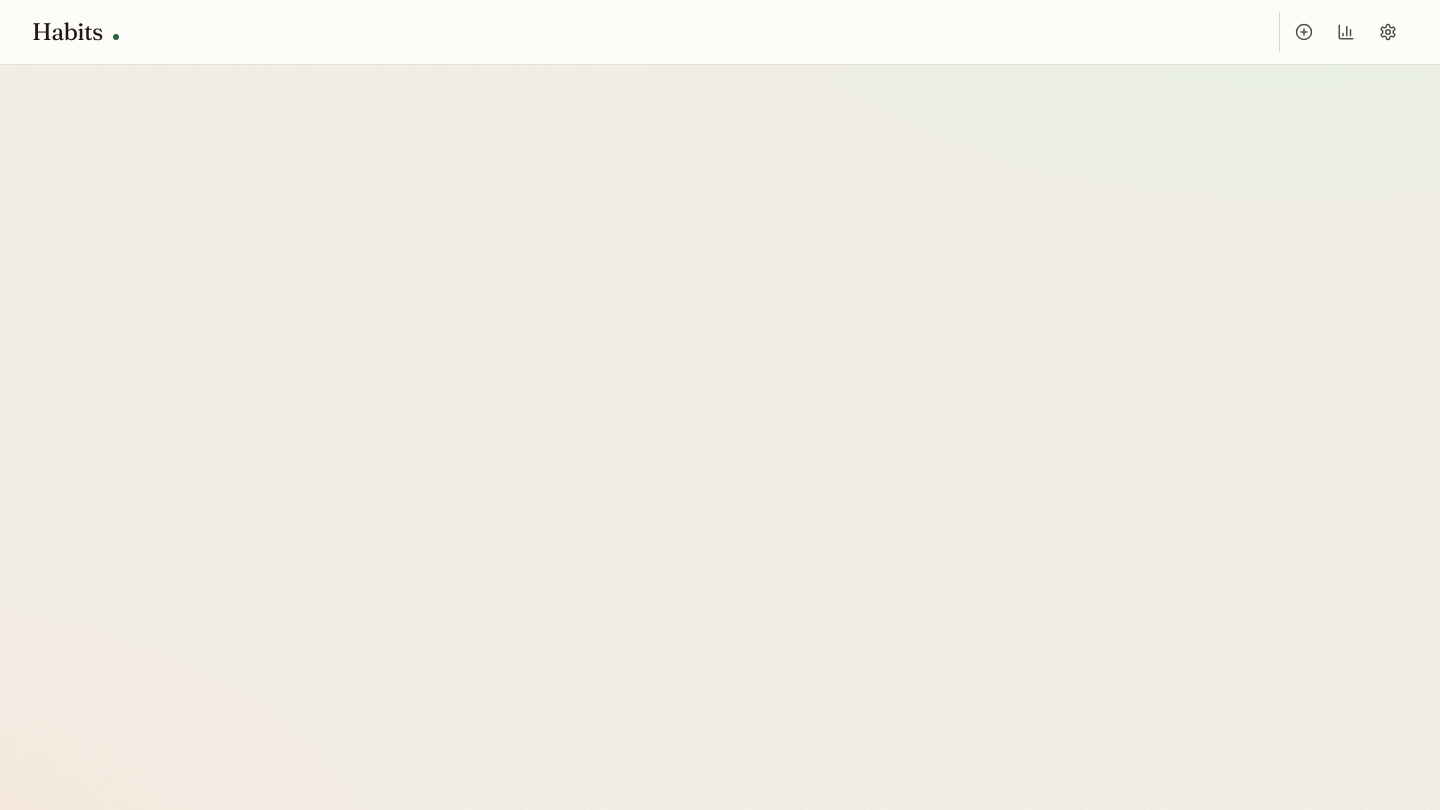
it: Header › opens the log dialog when the icon is clicked
This screenshot has width=1440, height=810.
Click the button named "Log entry" at (1304, 32), box [1284, 12, 1324, 52]
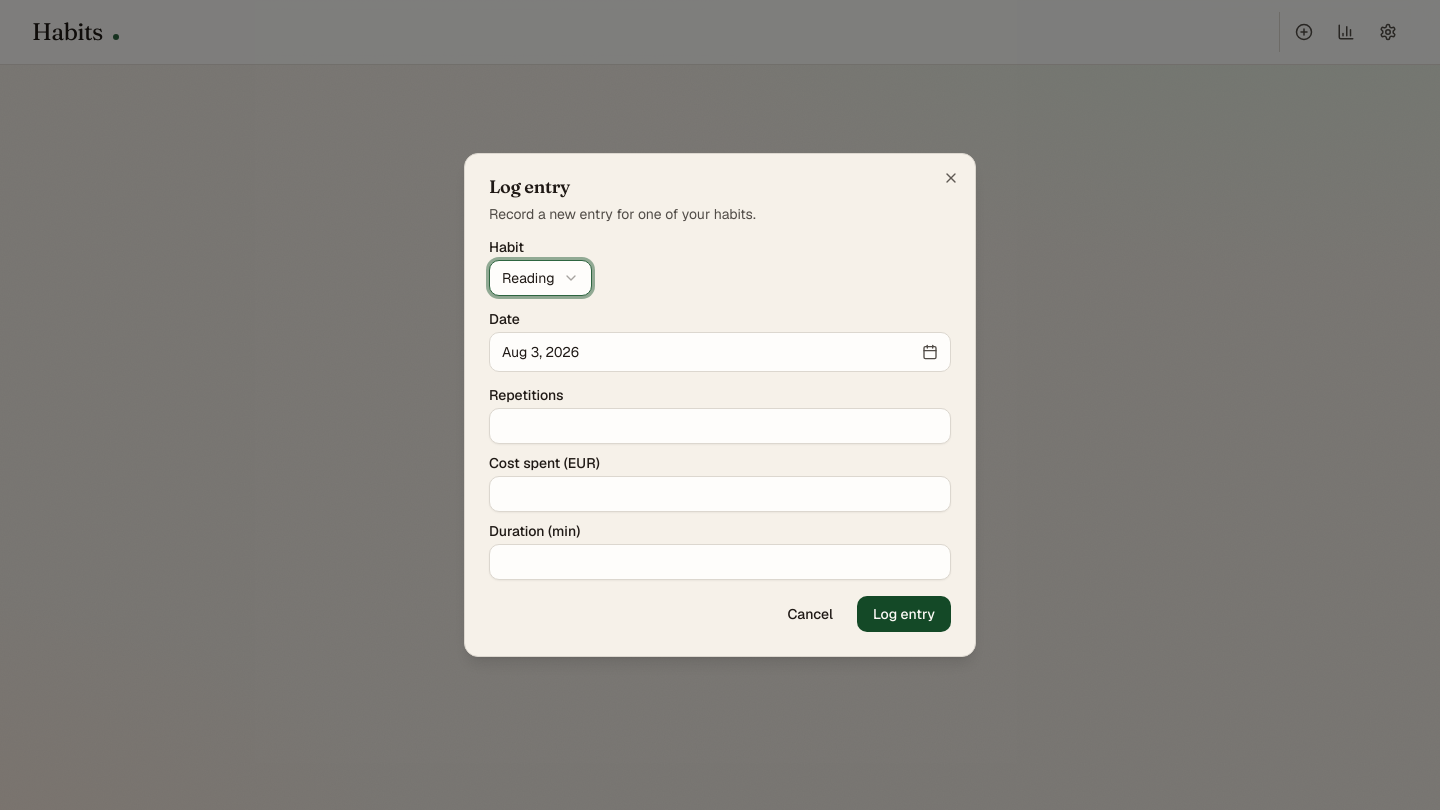
Check: the dialog shows "Log entry", box [489, 175, 570, 198]
